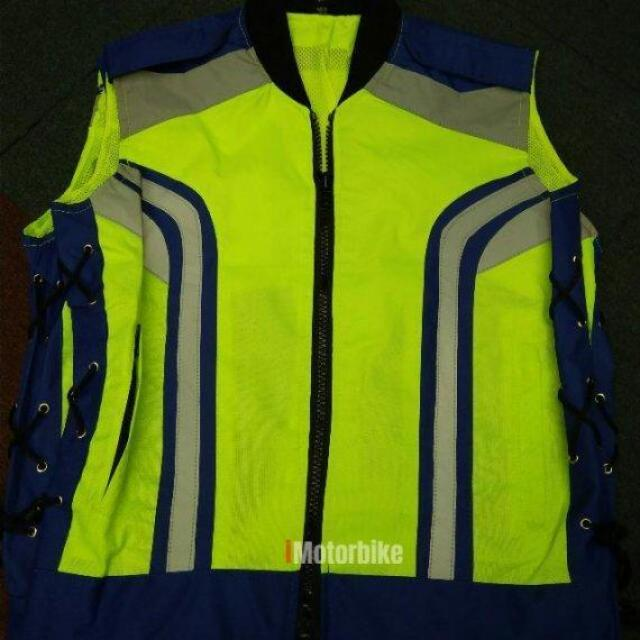vest: (19, 0, 623, 638)
